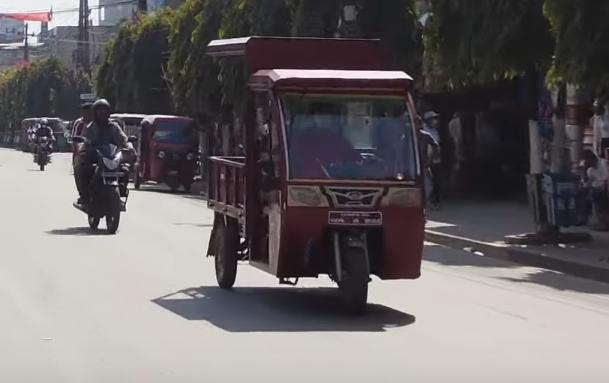auto_rickshaw: (133, 111, 194, 192)
bike: (74, 135, 138, 234), (27, 130, 55, 173)
e-rickshaw: (188, 30, 439, 330)
